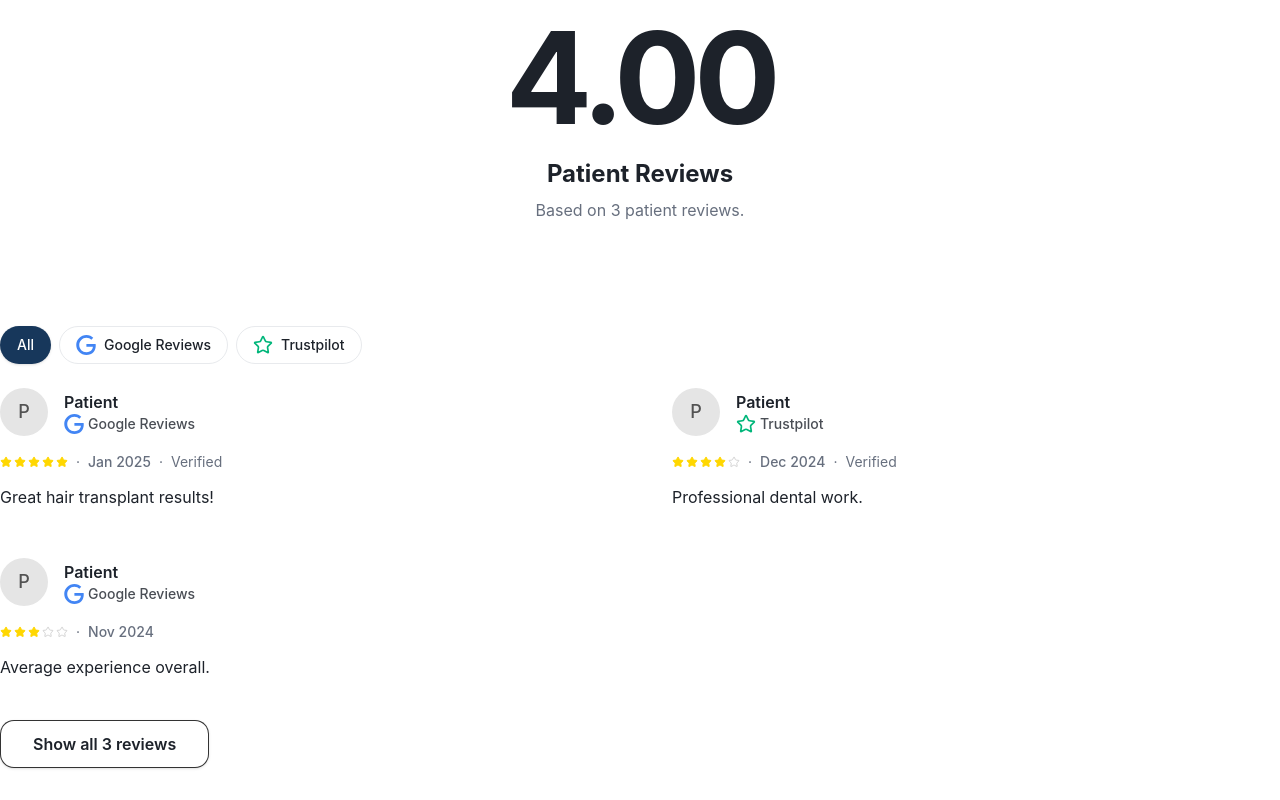
ReviewsSection modal search › filters reviews by text in modal search
(page scrolled)
Note: Open the modal
Click the button "Show all 3 reviews".
click(105, 744)  # box 0,720 -> 209,768
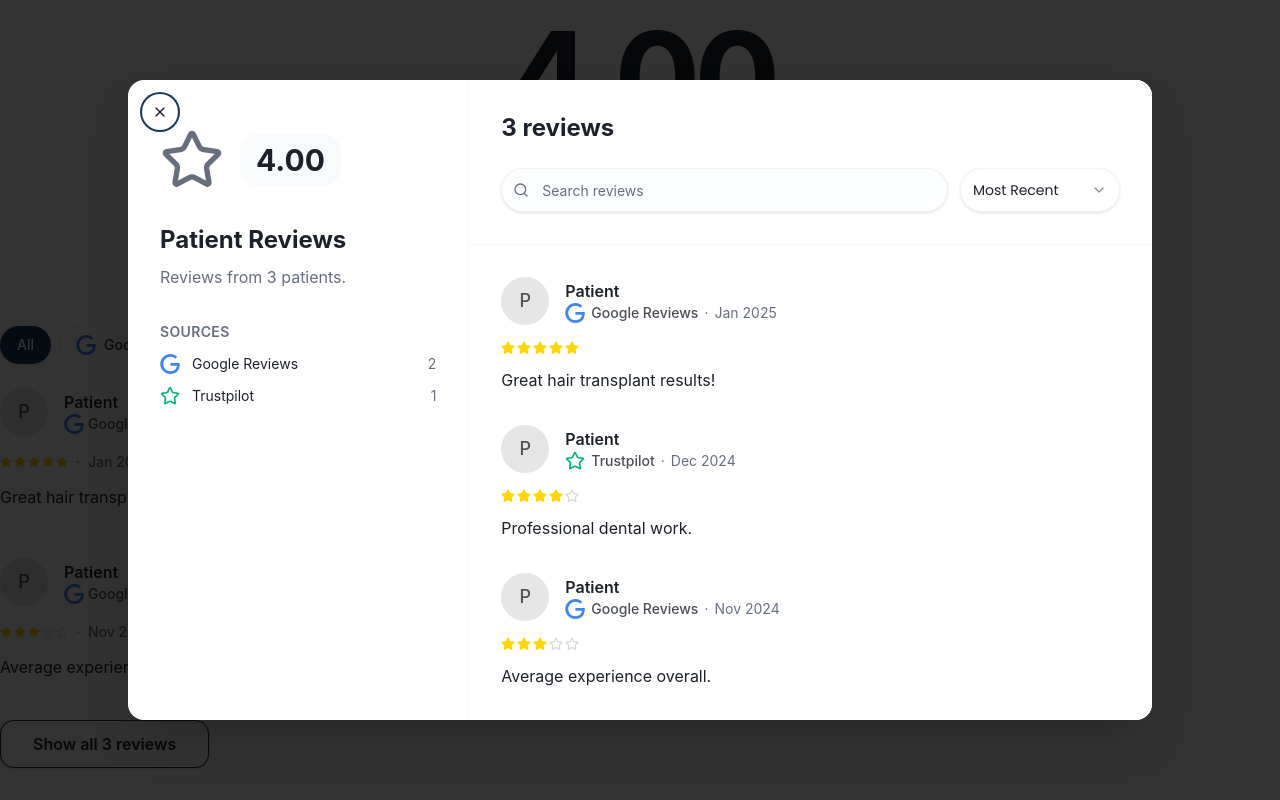
Note: Find search input and type
Type "hair" into the field with placeholder "Search reviews".
click(725, 190); type("hair")  # box 501,168 -> 948,212
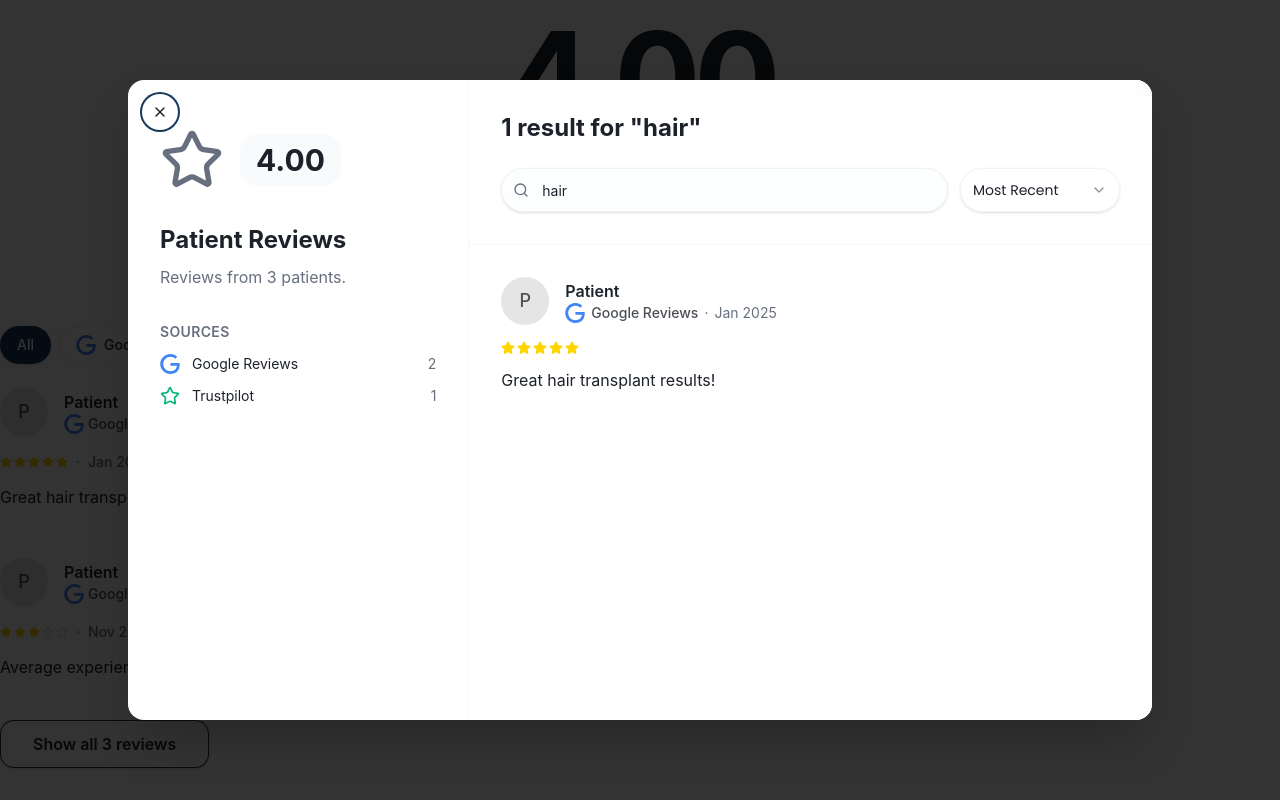
Check: the heading "1 result for \"hair\"" is shown, box 501,113 -> 701,142
